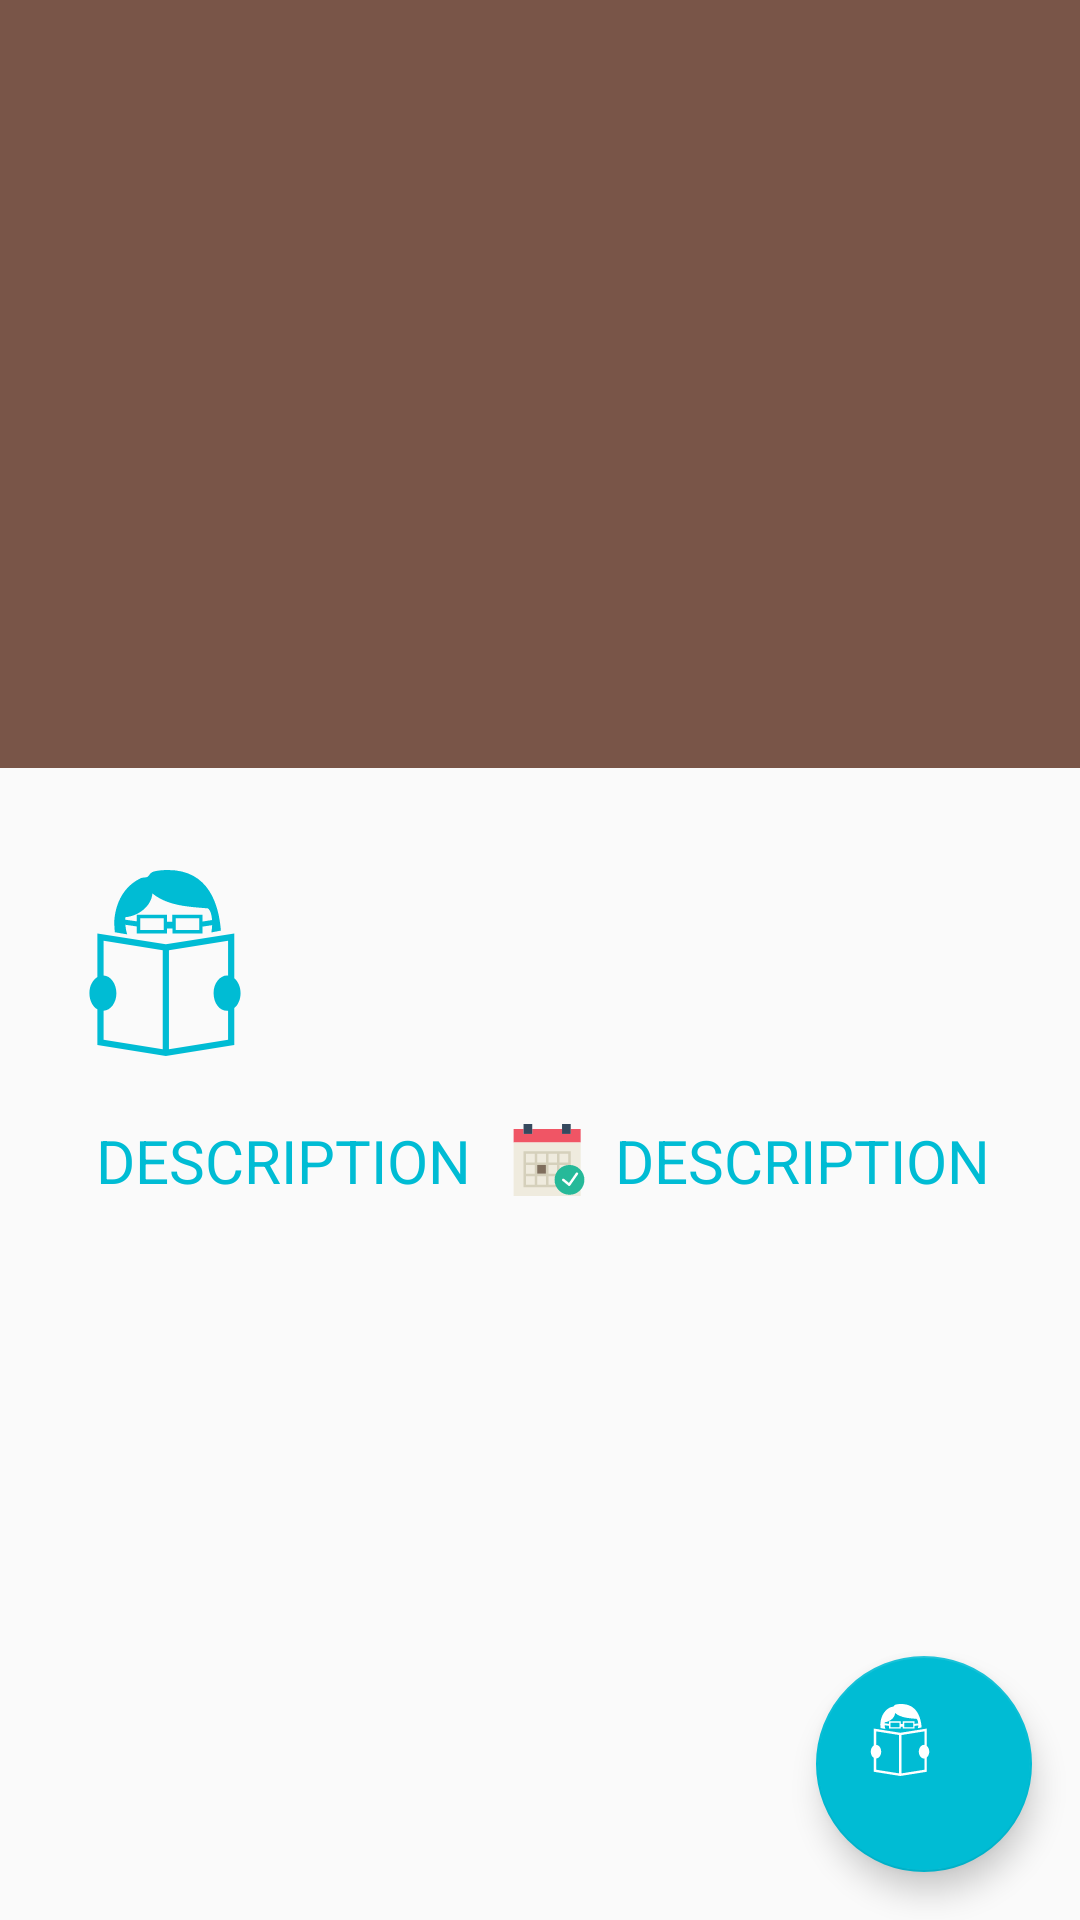

Icons on this 1080px×1920px Android screen, each with its box as (x1, y1, x2, y2):
man reading: (89, 870, 241, 1056), (816, 1656, 1032, 1872)
